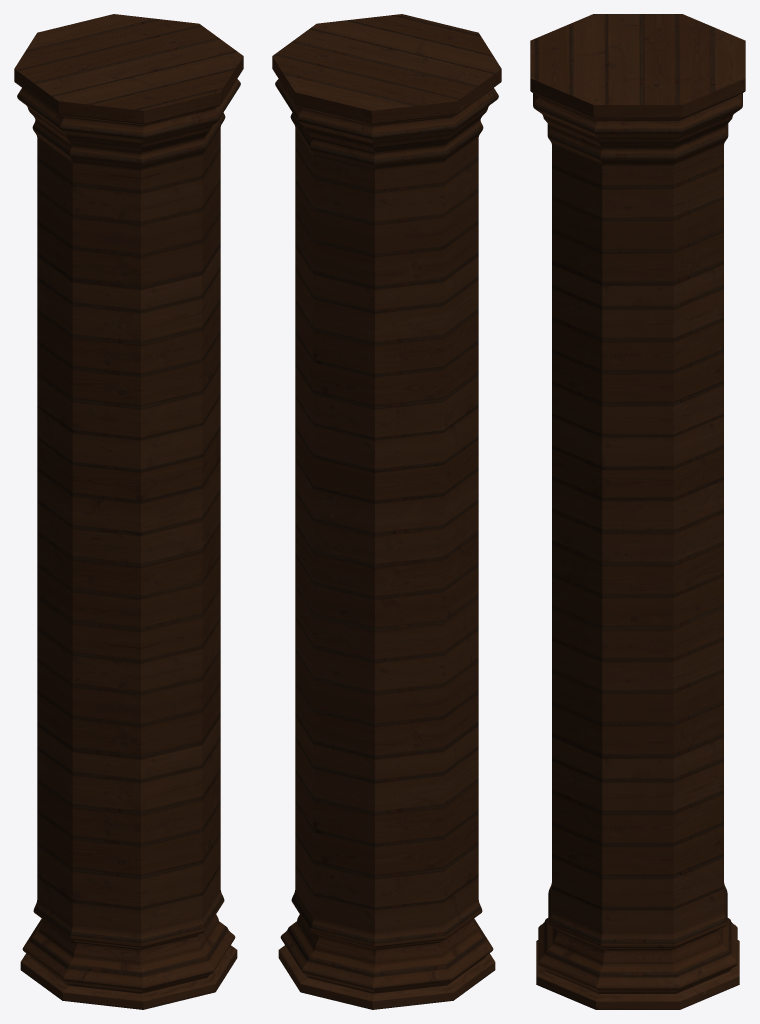
The model's file is building.glb.
3 views of the same model, side by side, from view 1: azimuth 30°, elevation 25°; view 2: azimuth 150°, elevation 25°; view 3: azimuth 270°, elevation 25° (orthographic).
Parts seen in each view (by area): view 1: vertical_member/madera_octagonal_post/member_shaft#0001, vertical_member/madera_octagonal_post/member_capital#0001, vertical_member/madera_octagonal_post/member_base#0001; view 2: vertical_member/madera_octagonal_post/member_shaft#0001, vertical_member/madera_octagonal_post/member_capital#0001, vertical_member/madera_octagonal_post/member_base#0001; view 3: vertical_member/madera_octagonal_post/member_shaft#0001, vertical_member/madera_octagonal_post/member_capital#0001, vertical_member/madera_octagonal_post/member_base#0001.
Boxes of the visible parts, x1=… form: vertical_member/madera_octagonal_post/member_shaft#0001: x1=37, y1=128, x2=220, y2=933; vertical_member/madera_octagonal_post/member_capital#0001: x1=14, y1=14, x2=243, y2=170; vertical_member/madera_octagonal_post/member_base#0001: x1=20, y1=890, x2=237, y2=1009; vertical_member/madera_octagonal_post/member_shaft#0001: x1=295, y1=128, x2=478, y2=933; vertical_member/madera_octagonal_post/member_capital#0001: x1=272, y1=14, x2=501, y2=170; vertical_member/madera_octagonal_post/member_base#0001: x1=278, y1=890, x2=495, y2=1009; vertical_member/madera_octagonal_post/member_shaft#0001: x1=552, y1=145, x2=723, y2=933; vertical_member/madera_octagonal_post/member_capital#0001: x1=530, y1=14, x2=745, y2=165; vertical_member/madera_octagonal_post/member_base#0001: x1=536, y1=883, x2=739, y2=1009.
Size of the model in its own units: 0.6875 by 3.2 by 0.6875.
1 material, 1 textured.
